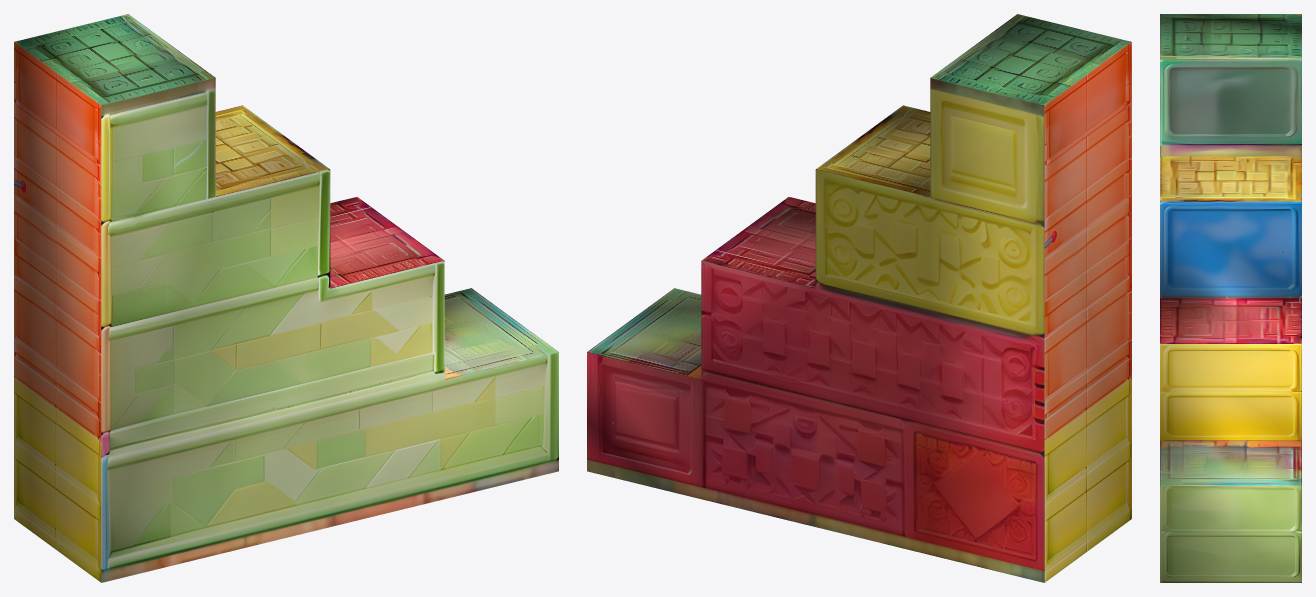
The model's file is stairs2.glb.
3 renders of one model, left to right at view 1: azimuth 30°, elevation 25°; view 2: azimuth 150°, elevation 25°; view 3: azimuth 270°, elevation 25°, orthographic. The views are drawn at different scales.
Bounding box in the file's own units: 5.9 × 5.88 × 1.95.
1 material, 1 textured.
